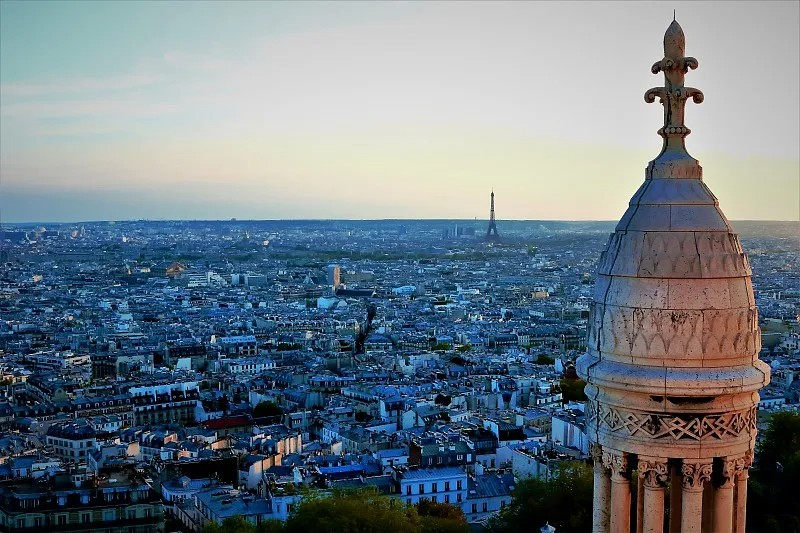Eiffel: (487, 187, 498, 236)
